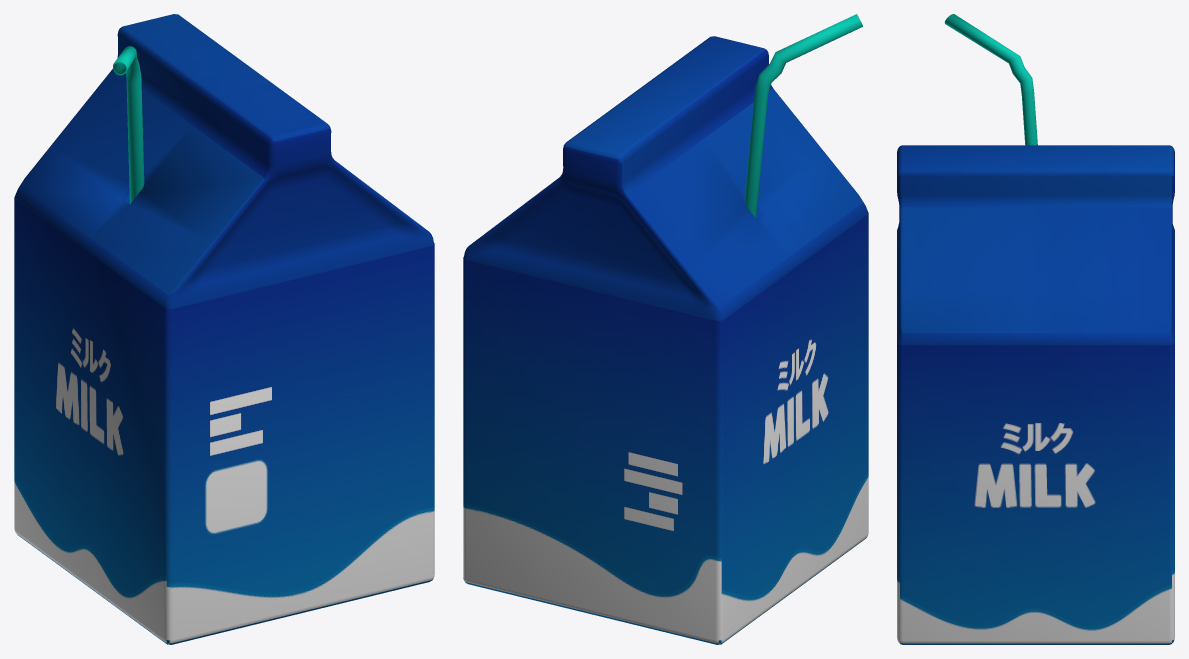
The model's file is Milk.fbx.
3 renders of one model, left to right at view 1: azimuth 30°, elevation 25°; view 2: azimuth 150°, elevation 25°; view 3: azimuth 270°, elevation 25°, orthographic. The views are drawn at different scales.
Visible parts, largest first — view 1: Milk; view 2: Milk; view 3: Milk.
Part boxes in pixels (x1,y1,x2,y2): Milk: (14,14,434,644); Milk: (463,14,868,644); Milk: (897,14,1174,644).
Bounding box in the file's own units: 177 × 330 × 163.
